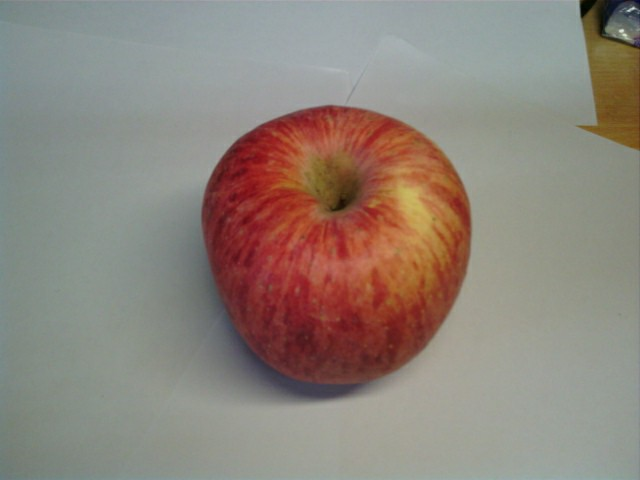normal_apple: (200, 104, 473, 392)
